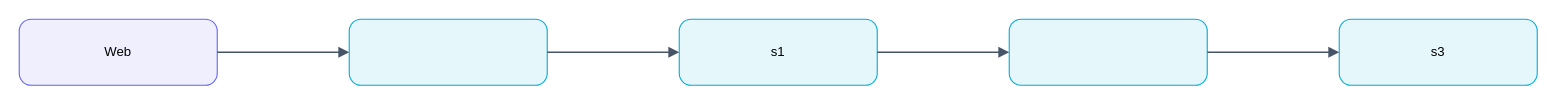
Image size: 1557x105. Some labels were removed from this diagram. The shapes that lost their labels are listed below. From the top down, each one's box as (x1, y1, x2, y2) in pixels, then its label:
(348, 18, 547, 85): s0
(1008, 18, 1207, 85): s2
